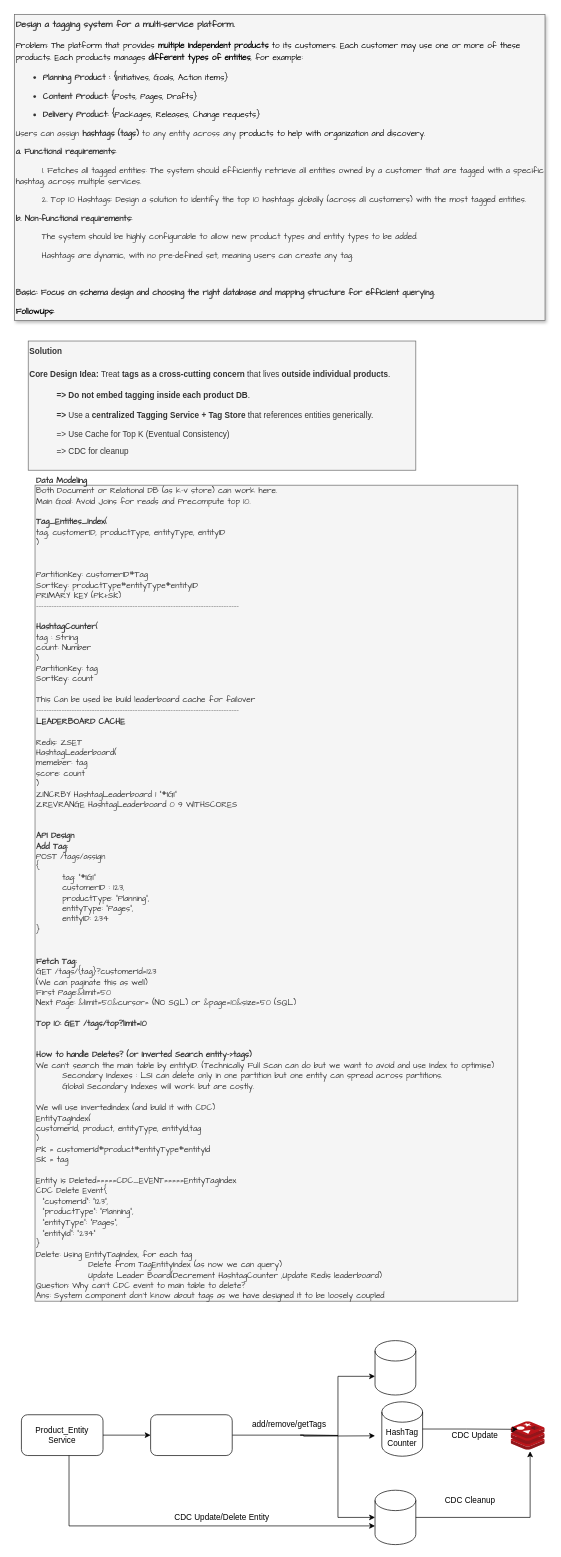
This 561x1557 diagram has some shape labels left out. The centre of each missing label's shape, as x and y in pixels:
"Entity_Tag Index" belongs at point 395,1517.
"Tag_Entity Index" belongs at point 395,1367.
"Tagging System" belongs at point 191,1435.
